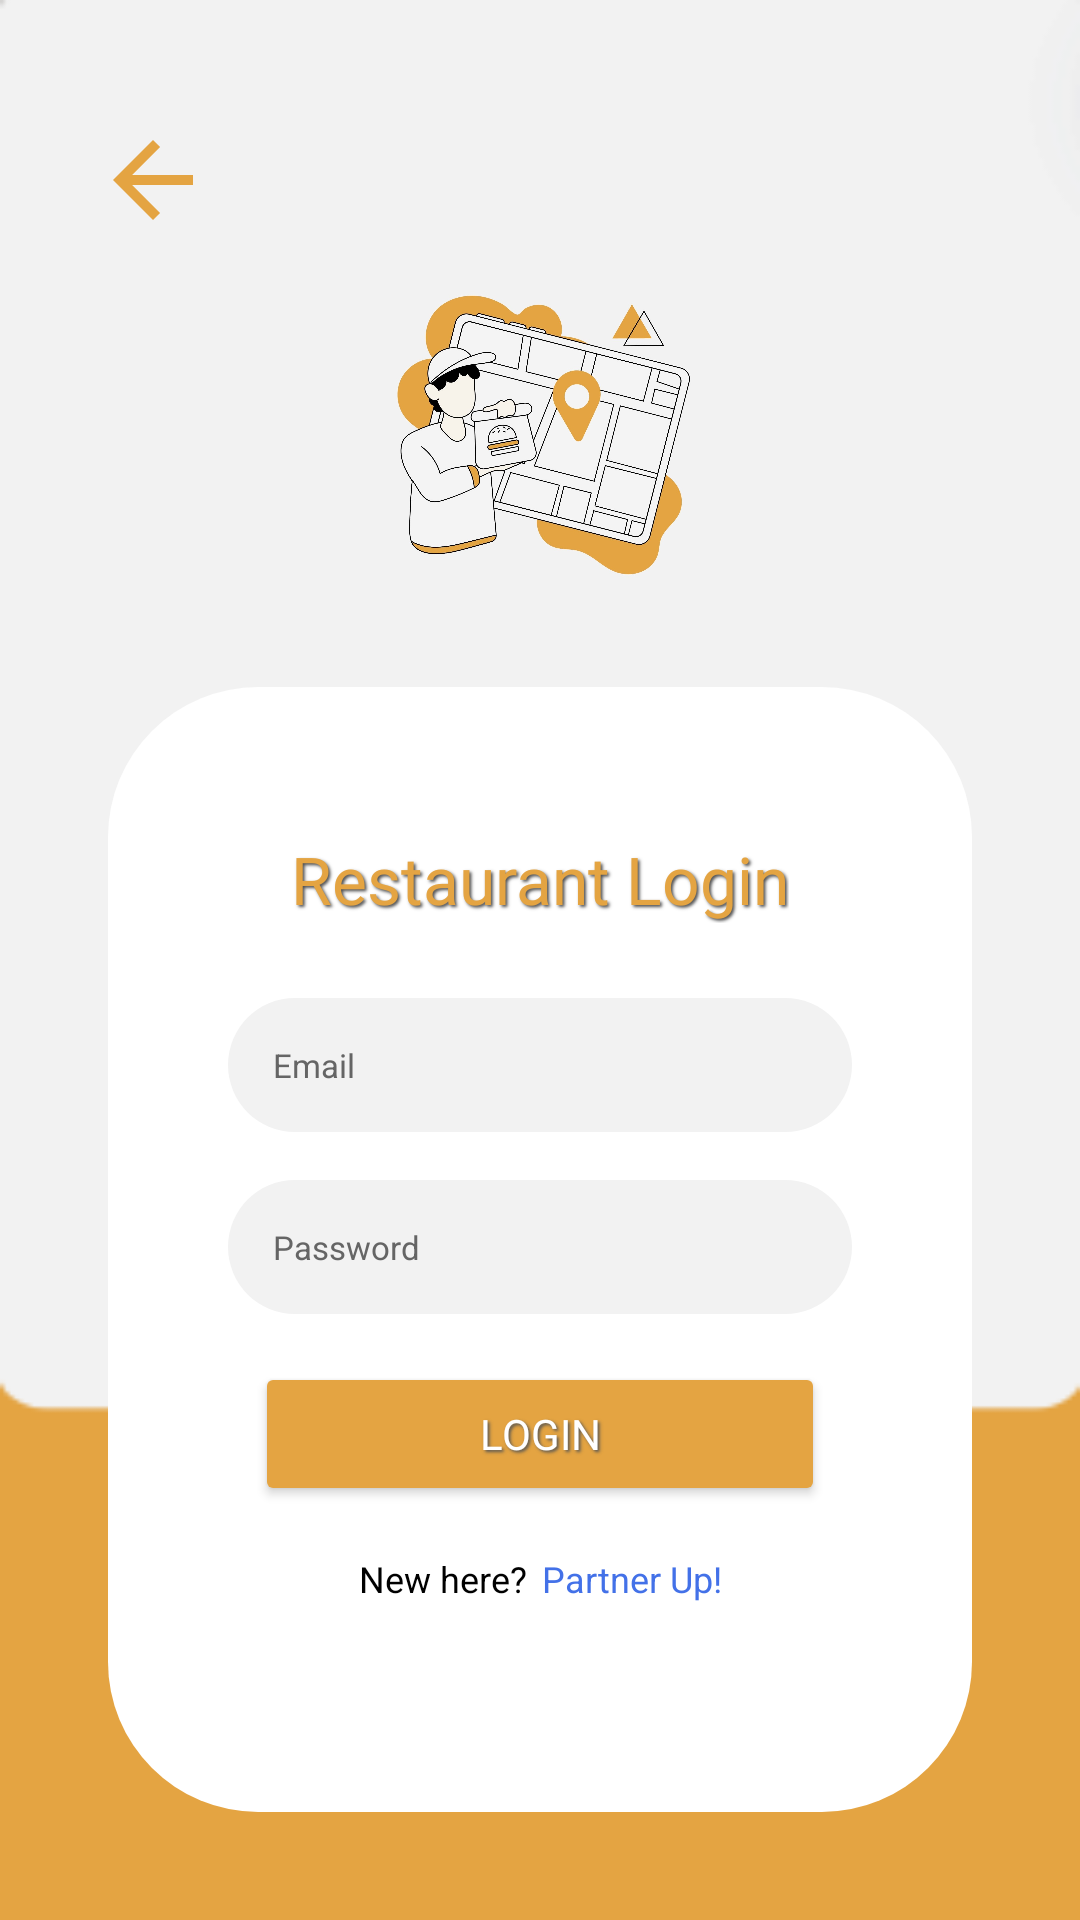

Icon click points for this 1080 × 1920 phone screenshot, format [x,y]:
arrow back: [153,180]
